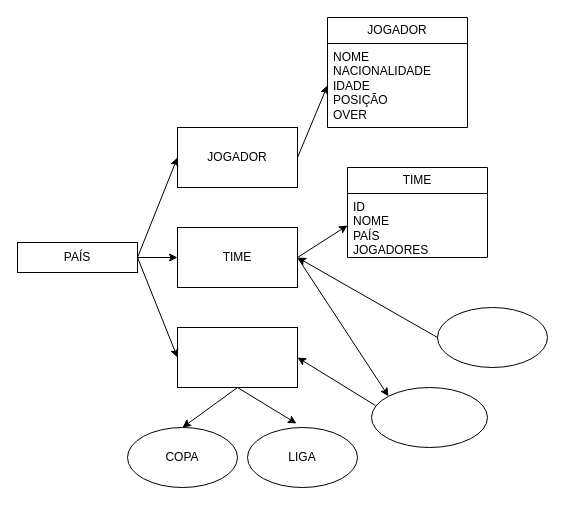
This 565x505 diagram has some shape labels left out. Here are the shapes that lost their labels. From the top down, the centre of each, then its label:
point (237, 357): CAMPEONATO
point (492, 337): USUARIO
point (429, 417): PARTIDA
